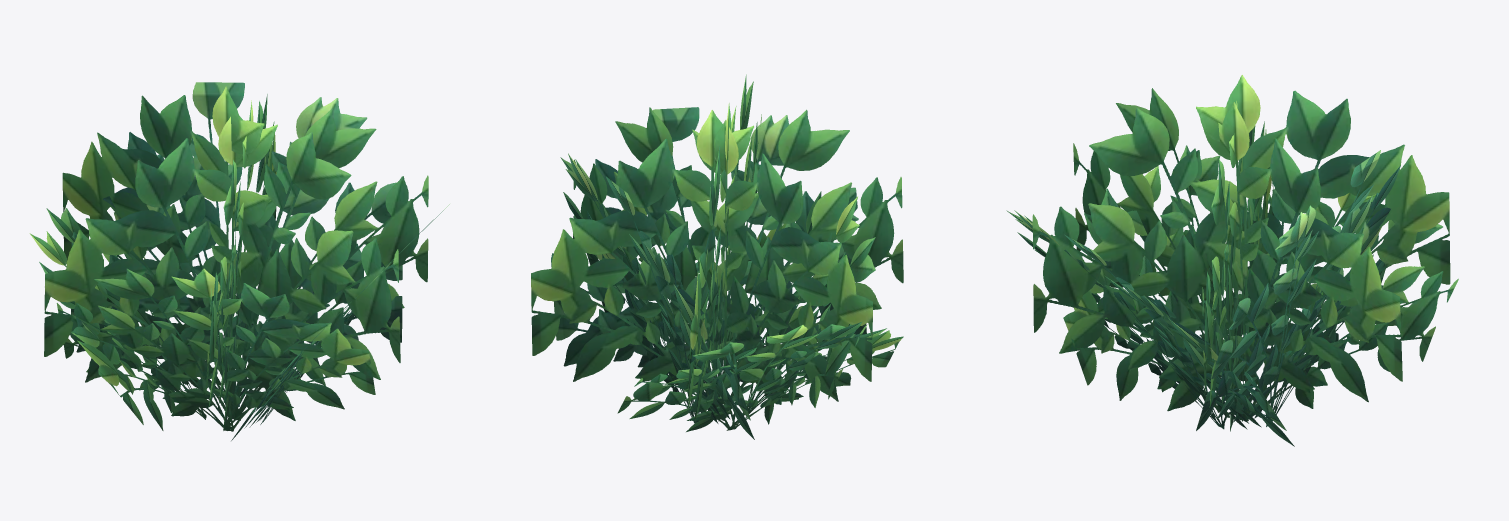
File: shrub_tuft.glb
3 renders of one model, left to right at view 1: azimuth 30°, elevation 25°; view 2: azimuth 150°, elevation 25°; view 3: azimuth 270°, elevation 25°, orthographic. The views are drawn at different scales.
Visible parts, largest first — view 1: shrub_tuft; view 2: shrub_tuft; view 3: shrub_tuft.
Boxes of the visible parts, x1=… form: shrub_tuft: x1=29, y1=82, x2=449, y2=440; shrub_tuft: x1=531, y1=74, x2=903, y2=439; shrub_tuft: x1=1006, y1=75, x2=1458, y2=446.
Bounding box in the file's own units: 1.11 × 0.7868 × 1.1.
1 material, 1 textured.
